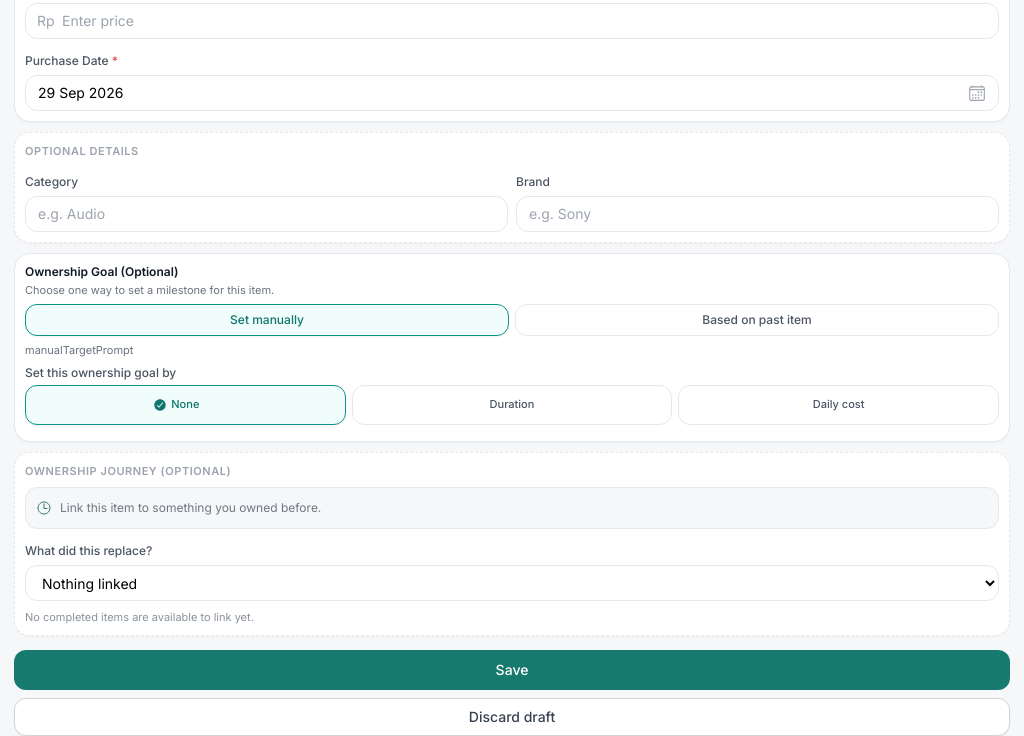
it: AddItem component date localization › toggles between Set manually and From completed item in ownership target card
(page scrolled)
Expected: the element named "Target type" is shown, [25,384,999,424]
# Switch to benchmark tab
Click the button "Based on past item" at (757, 320), box [515,304,999,336]
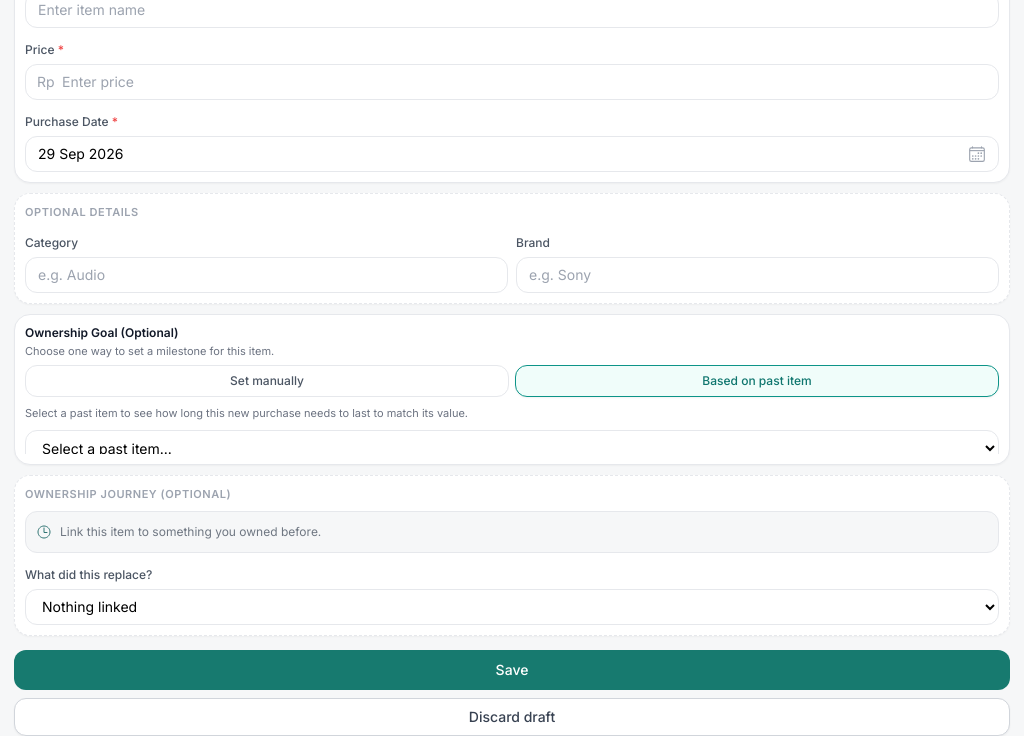
Expected: the dropdown named "Based on past item" is shown, [25,430,999,454]
# Switch back to manual tab
Click the button "Set manually" at (267, 381), box [25,365,509,397]
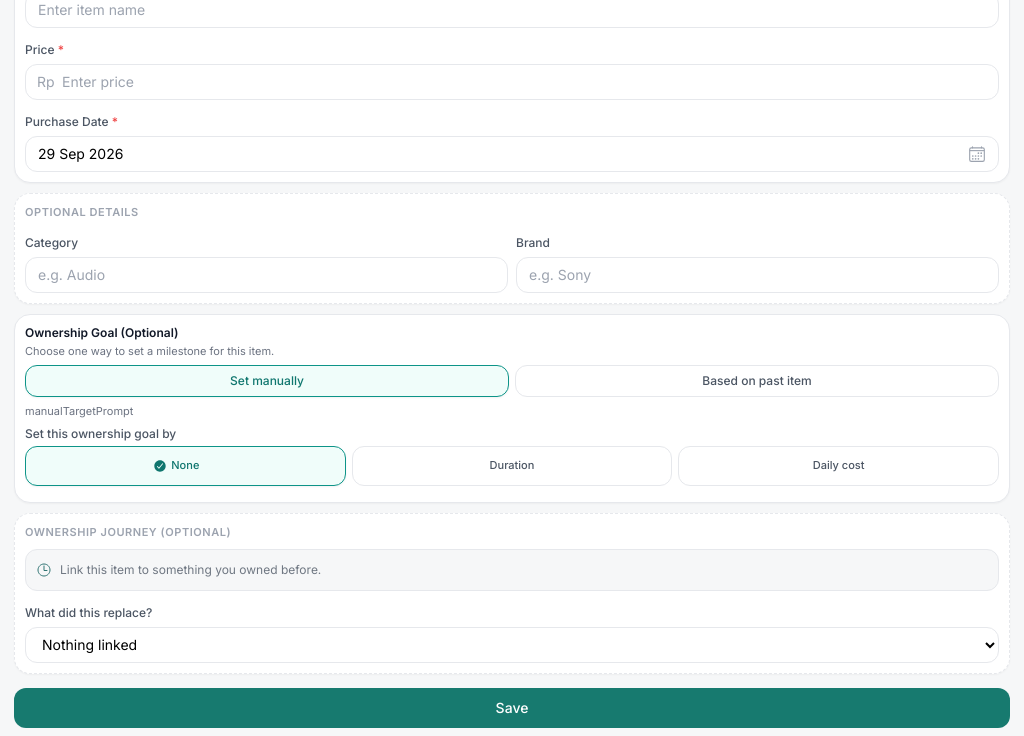
Expected: the element named "Target type" is shown, [25,446,999,486]
